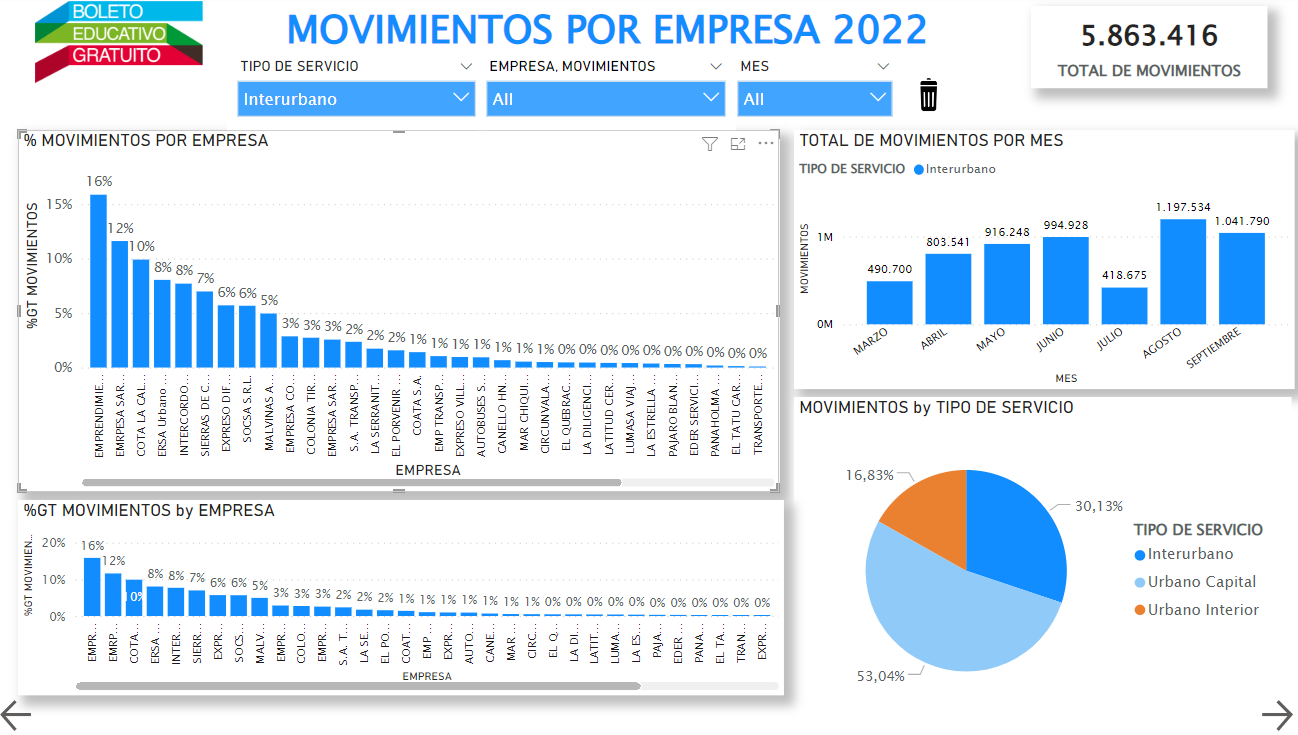

The page's visual inventory and layout, read from the dashboard file:
{"tool":"powerbi","page":{"name":"MOVIMIENTOS POR EMPRESA","canvas":[1280,720],"ordinal":2},"visuals":[{"type":"image","box":[0,0,238,99],"z":0},{"type":"textbox","box":[238,0,713,75],"z":1000},{"type":"clusteredColumnChart","title":"% MOVIMIENTOS POR EMPRESA","fields":{"Category":["MovEmpresa.EMPRESA"],"Y":["Divide(Sum(MovEmpresa.MOVIMIENTOS), ScopedEval(Sum(MovEmpresa.MOVIMIENTOS), []))"]},"box":[21,130.5,741,352.1],"z":2000},{"type":"columnChart","title":"TOTAL DE MOVIMIENTOS POR MES","fields":{"Category":["MovEmpresa.MES"],"Y":["Sum(MovEmpresa.MOVIMIENTOS)"],"Series":["MovEmpresa.TIPO DE SERVICIO"]},"box":[776.2,130.3,487.3,251.9],"z":3000},{"type":"card","fields":{"Values":["Sum(MovEmpresa.MOVIMIENTOS)"]},"box":[1007,10,230,80],"z":4000},{"type":"slicer","fields":{"Values":["MovEmpresa.TIPO DE SERVICIO"]},"box":[224.3,54.1,251.8,76.3],"z":5000},{"type":"pieChart","fields":{"Y":["Sum(MovEmpresa.MOVIMIENTOS)"],"Category":["MovEmpresa.TIPO DE SERVICIO"]},"box":[776.1,389.8,484.4,318.8],"z":6000},{"type":"slicer","fields":{"Values":["MovEmpresa.MES"]},"box":[711.1,54.1,171.1,64.7],"z":7000},{"type":"slicer","fields":{"Values":["MovEmpresa.EMPRESA","MovEmpresa.MOVIMIENTOS"]},"box":[467.3,54.1,252.7,76.3],"z":8000},{"type":"actionButton","box":[1225.7,680,54.3,40],"z":9000},{"type":"image","box":[882,75.3,49.9,42],"z":10000},{"type":"actionButton","box":[0,680,100,40],"z":11000},{"type":"clusteredColumnChart","fields":{"Category":["MovEmpresa.EMPRESA"],"Y":["Divide(Sum(MovEmpresa.MOVIMIENTOS), ScopedEval(Sum(MovEmpresa.MOVIMIENTOS), []))"]},"box":[21.4,490.2,745,189.7],"z":13000}]}

Visuals, with their boxes in screenshot pixels (x1, y1, x2, y2), scaled from the page's 1280x720 canvas onto the 1298x735 screenshot:
image: x1=0, y1=0, x2=241, y2=101
textbox: x1=241, y1=0, x2=964, y2=77
"% MOVIMIENTOS POR EMPRESA" clusteredColumnChart: x1=21, y1=133, x2=773, y2=493
"TOTAL DE MOVIMIENTOS POR MES" columnChart: x1=787, y1=133, x2=1281, y2=390
card - Sum(MovEmpresa.MOVIMIENTOS): x1=1021, y1=10, x2=1254, y2=92
slicer - MovEmpresa.TIPO DE SERVICIO: x1=227, y1=55, x2=483, y2=133
pieChart - Sum(MovEmpresa.MOVIMIENTOS) x MovEmpresa.TIPO DE SERVICIO: x1=787, y1=398, x2=1278, y2=723
slicer - MovEmpresa.MES: x1=721, y1=55, x2=895, y2=121
slicer - MovEmpresa.EMPRESA x MovEmpresa.MOVIMIENTOS: x1=474, y1=55, x2=730, y2=133
actionButton: x1=1243, y1=694, x2=1297, y2=734
image: x1=894, y1=77, x2=945, y2=120
actionButton: x1=0, y1=694, x2=101, y2=734
clusteredColumnChart - MovEmpresa.EMPRESA x Divide(Sum(MovEmpresa.MOVIMIENTOS), ScopedEval(Sum(MovEmpresa.MOVIMIENTOS), [])): x1=22, y1=500, x2=777, y2=694
